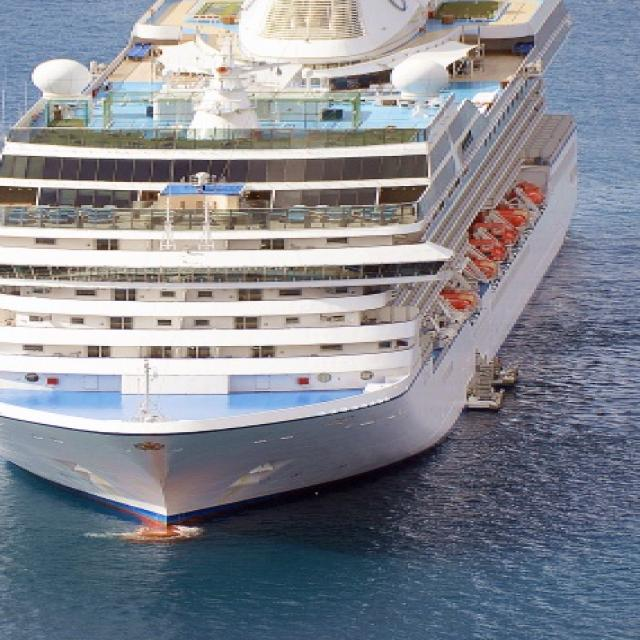cruises: (1, 1, 596, 526)
